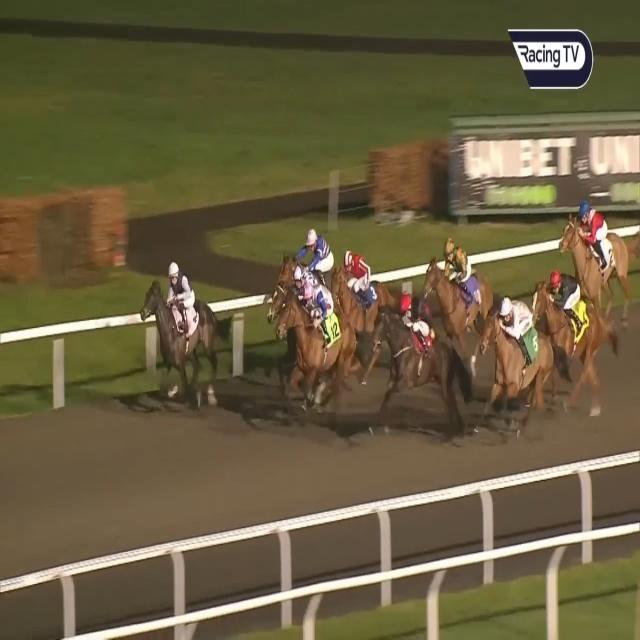horses-racing: (139, 262, 232, 407), (530, 276, 610, 402), (376, 291, 450, 426), (483, 298, 560, 407), (557, 196, 628, 314), (276, 278, 344, 401), (424, 234, 493, 346), (333, 245, 394, 371), (269, 226, 340, 301), (274, 255, 320, 318)
